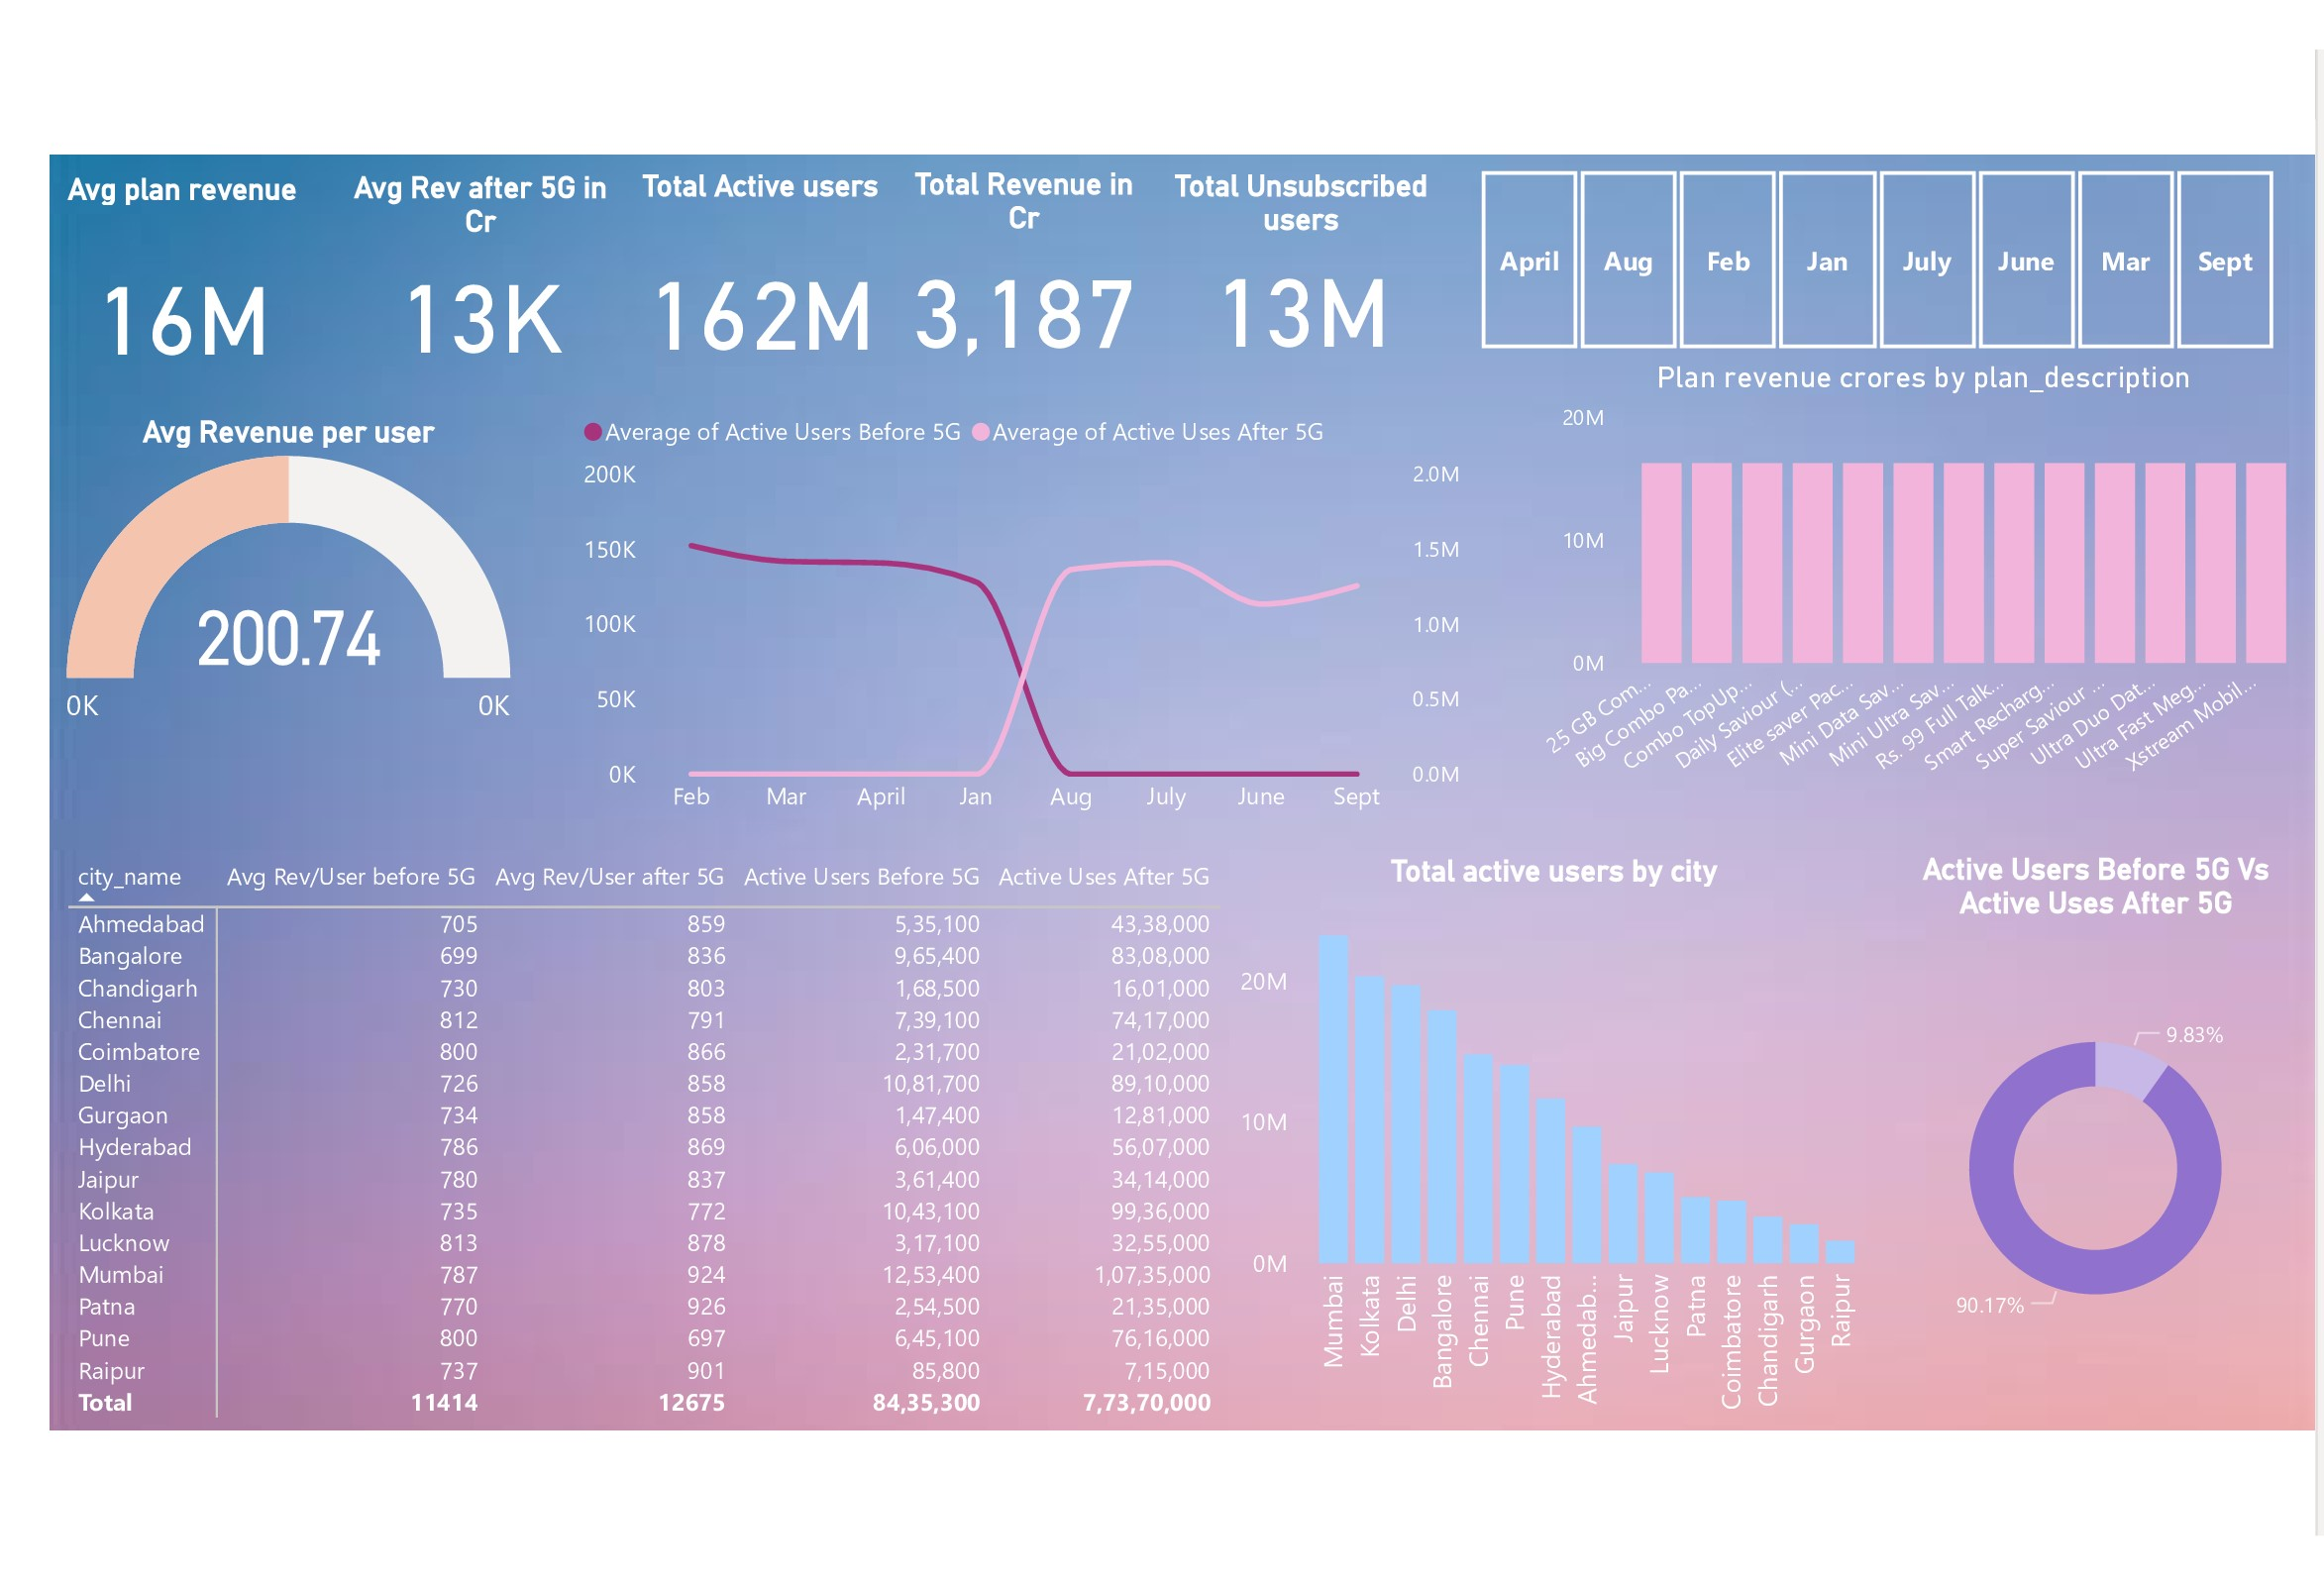

The dashboard page shown, as its layout file describes it:
{"tool":"powerbi","page":{"name":"Page 1","canvas":[1280,720],"ordinal":0},"visuals":[{"type":"card","title":"Avg Rev after 5G in Cr","fields":{"Values":["Sum(fact_atliqo_metrics.ARPU after 5G)"]},"box":[159.4,8.4,169,116.3],"z":0},{"type":"card","title":"Total Active users ","fields":{"Values":["Sum(fact_atliqo_metrics.Total active users in Cr)"]},"box":[328.4,7.2,146.2,116.3],"z":1000},{"type":"card","title":"Total Revenue in Cr","fields":{"Values":["Sum(fact_atliqo_metrics.Total Revenue in Cr)"]},"box":[474.6,6,151,116.3],"z":2000},{"type":"card","title":"Total Unsubscribed users ","fields":{"Values":["Sum(fact_atliqo_metrics.Total unsubscribed users in lkh)"]},"box":[629.2,7.2,155.8,112.7],"z":3000},{"type":"pieChart","title":"Active Users Before 5G Vs Active Uses After 5G","fields":{"Y":["Sum(fact_atliqo_metrics.Active Users Before 5G)","Sum(fact_atliqo_metrics.Active Uses After 5G)"]},"box":[1032.4,393.2,247.2,320.8],"z":4000},{"type":"pivotTable","fields":{"Values":["Sum(fact_atliqo_metrics.ARPU before 5G)","Sum(fact_atliqo_metrics.ARPU after 5G)","Sum(fact_atliqo_metrics.Active Users Before 5G)","Sum(fact_atliqo_metrics.Active Uses After 5G)"],"Rows":["dim_cities.city_name"]},"box":[6,393.2,670.6,326.8],"z":5000},{"type":"gauge","fields":{"Y":["Avg(fact_atliqo_metrics.Avg Revenue per user )"]},"box":[0,145.7,269.8,186.1],"z":6000},{"type":"lineChart","fields":{"Category":["fact_atliqo_metrics.Month name"],"Y":["Avg(fact_atliqo_metrics.Active Users Before 5G)"],"Y2":["Avg(fact_atliqo_metrics.Active Uses After 5G)"]},"box":[295.8,135.6,509.3,246.7],"z":7000},{"type":"slicer","fields":{"Values":["fact_atliqo_metrics.Month name"]},"box":[784.9,4.3,494.9,109.6],"z":8000},{"type":"columnChart","title":" Total active users by city","fields":{"Category":["dim_cities.city_name"],"Y":["Sum(fact_atliqo_metrics.Total active users in Cr)"]},"box":[666.6,393.9,366.5,326.1],"z":9000},{"type":"clusteredColumnChart","title":" Plan revenue crores by plan_description","fields":{"Category":["dim_plan.plan_description"],"Y":["Avg(fact_plan_revenue.plan_revenue_crores)"]},"box":[838.2,114.6,441.4,246],"z":10000},{"type":"card","title":"Avg plan revenue ","fields":{"Values":["Avg(fact_plan_revenue.plan_revenue_crores)"]},"box":[0,8.7,150,137.1],"z":11000}]}

Visuals, with their boxes on the page's 1280x720 design canvas (x1, y1, x2, y2). These are canvas units, not pixel positions in the 2324x1585 screenshot, which may show the page scaled, cropped or inside an application window:
"Avg Rev after 5G in Cr" card: 159,8,328,125
"Total Active users " card: 328,7,475,124
"Total Revenue in Cr" card: 475,6,626,122
"Total Unsubscribed users " card: 629,7,785,120
"Active Users Before 5G Vs Active Uses After 5G" pieChart: 1032,393,1280,714
pivotTable - Sum(fact_atliqo_metrics.ARPU before 5G) x Sum(fact_atliqo_metrics.ARPU after 5G): 6,393,677,720
gauge - Avg(fact_atliqo_metrics.Avg Revenue per user ): 0,146,270,332
lineChart - fact_atliqo_metrics.Month name x Avg(fact_atliqo_metrics.Active Users Before 5G): 296,136,805,382
slicer - fact_atliqo_metrics.Month name: 785,4,1280,114
" Total active users by city" columnChart: 667,394,1033,720
" Plan revenue crores by plan_description" clusteredColumnChart: 838,115,1280,361
"Avg plan revenue " card: 0,9,150,146
